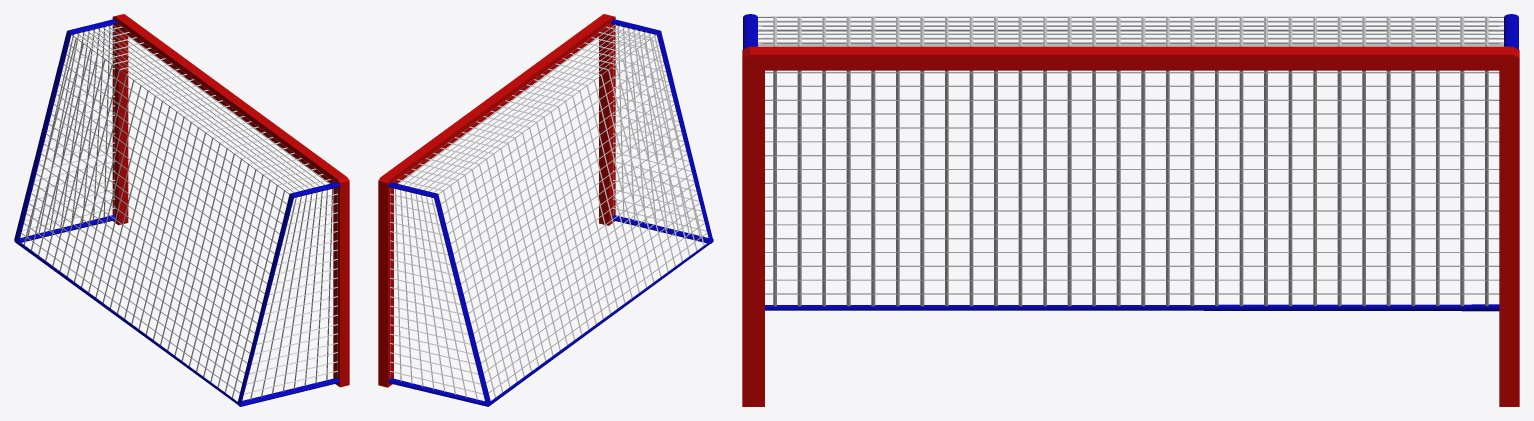
Rendered from kale.obj.
3 renders of one model, left to right at view 1: azimuth 30°, elevation 25°; view 2: azimuth 150°, elevation 25°; view 3: azimuth 270°, elevation 25°, orthographic. The views are drawn at different scales.
Visible parts, largest first — view 1: Cube.001, Cube, Cube.002; view 2: Cube.001, Cube, Cube.002; view 3: Cube.001, Cube, Cube.002.
Part boxes in pixels (x1,y1,x2,y2): Cube.001: [21, 24, 337, 399]; Cube: [112, 14, 349, 387]; Cube.002: [14, 19, 339, 406]; Cube.001: [390, 23, 707, 399]; Cube: [378, 14, 615, 387]; Cube.002: [388, 19, 713, 406]; Cube.001: [758, 16, 1503, 306]; Cube: [742, 46, 1519, 406]; Cube.002: [743, 14, 1518, 311].
Bounding box in the file's own units: 2.21 × 4 × 8.
